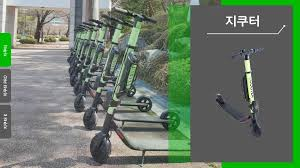kick_board: (216, 46, 265, 135)
kick_body: (116, 115, 159, 120)
kick_handler: (114, 6, 155, 23), (232, 46, 264, 58)
kick_neck: (243, 60, 257, 109)
kick_wheel: (91, 134, 110, 162), (84, 108, 97, 129), (248, 119, 262, 137), (137, 95, 152, 111), (74, 94, 85, 111)
